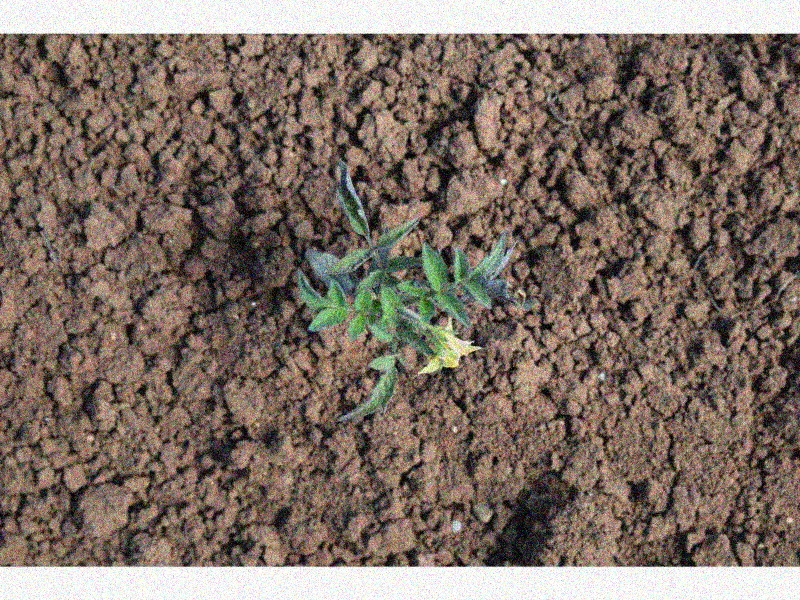tomato: (296, 161, 514, 417)
